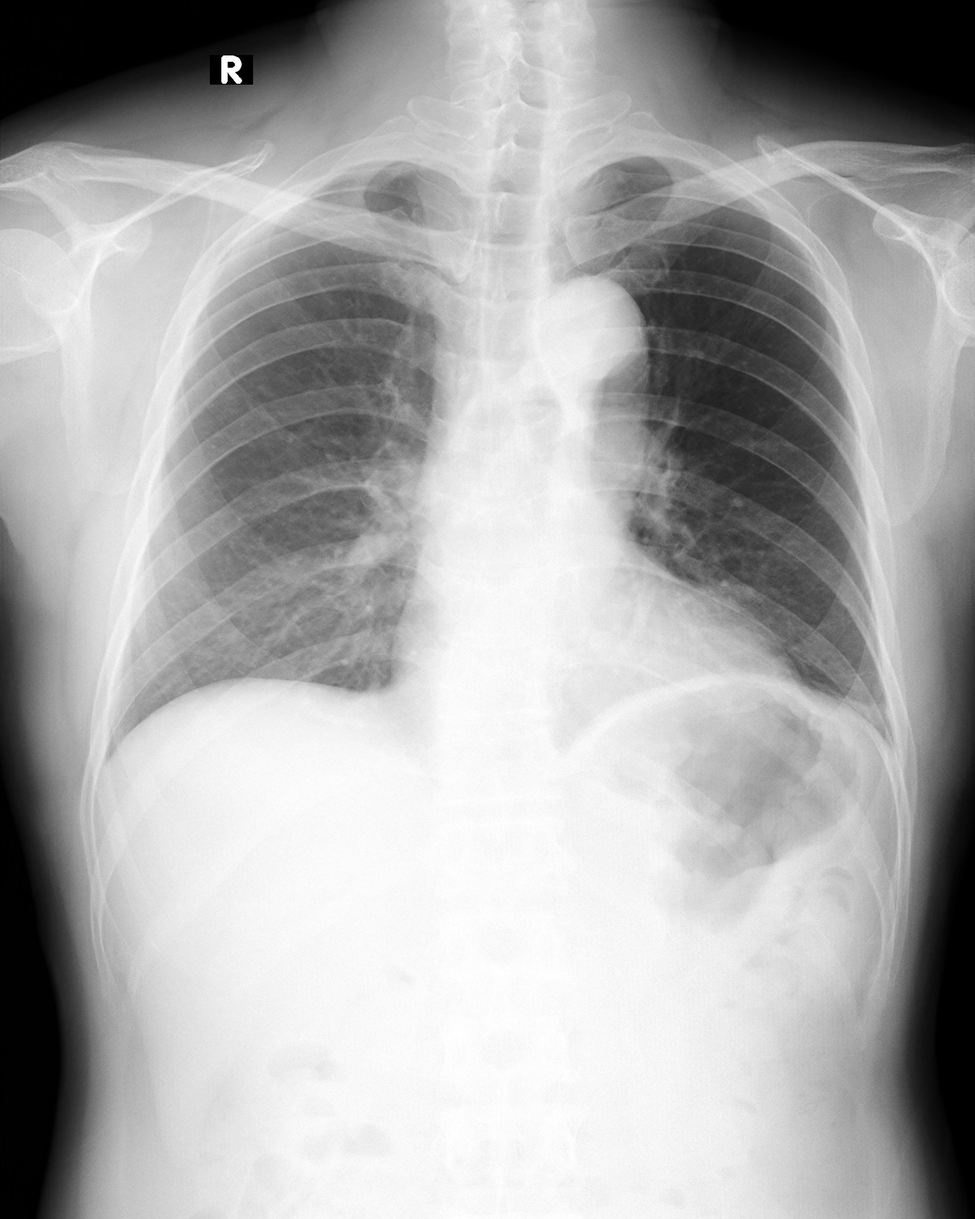Aortic enlargement: (531, 274, 653, 391)
Cardiomegaly: (386, 610, 805, 729)
Pleural thickening: (531, 274, 653, 391), (326, 162, 435, 188)
